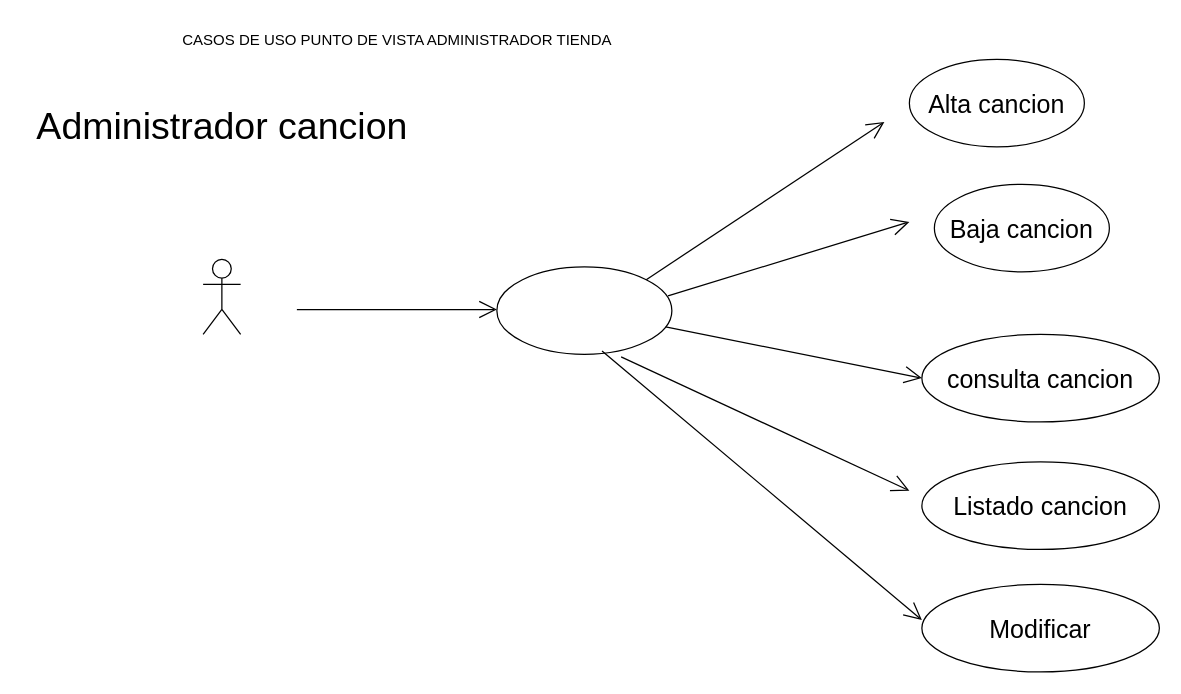
Some shapes in this 1181 by 694 pixel diagram are drawn without their labels. Here are the shapes that lost their labels. From the top down, the centre of each, then its label:
the point at 221,296: Actor
the point at 584,310: Gestion Canciones
